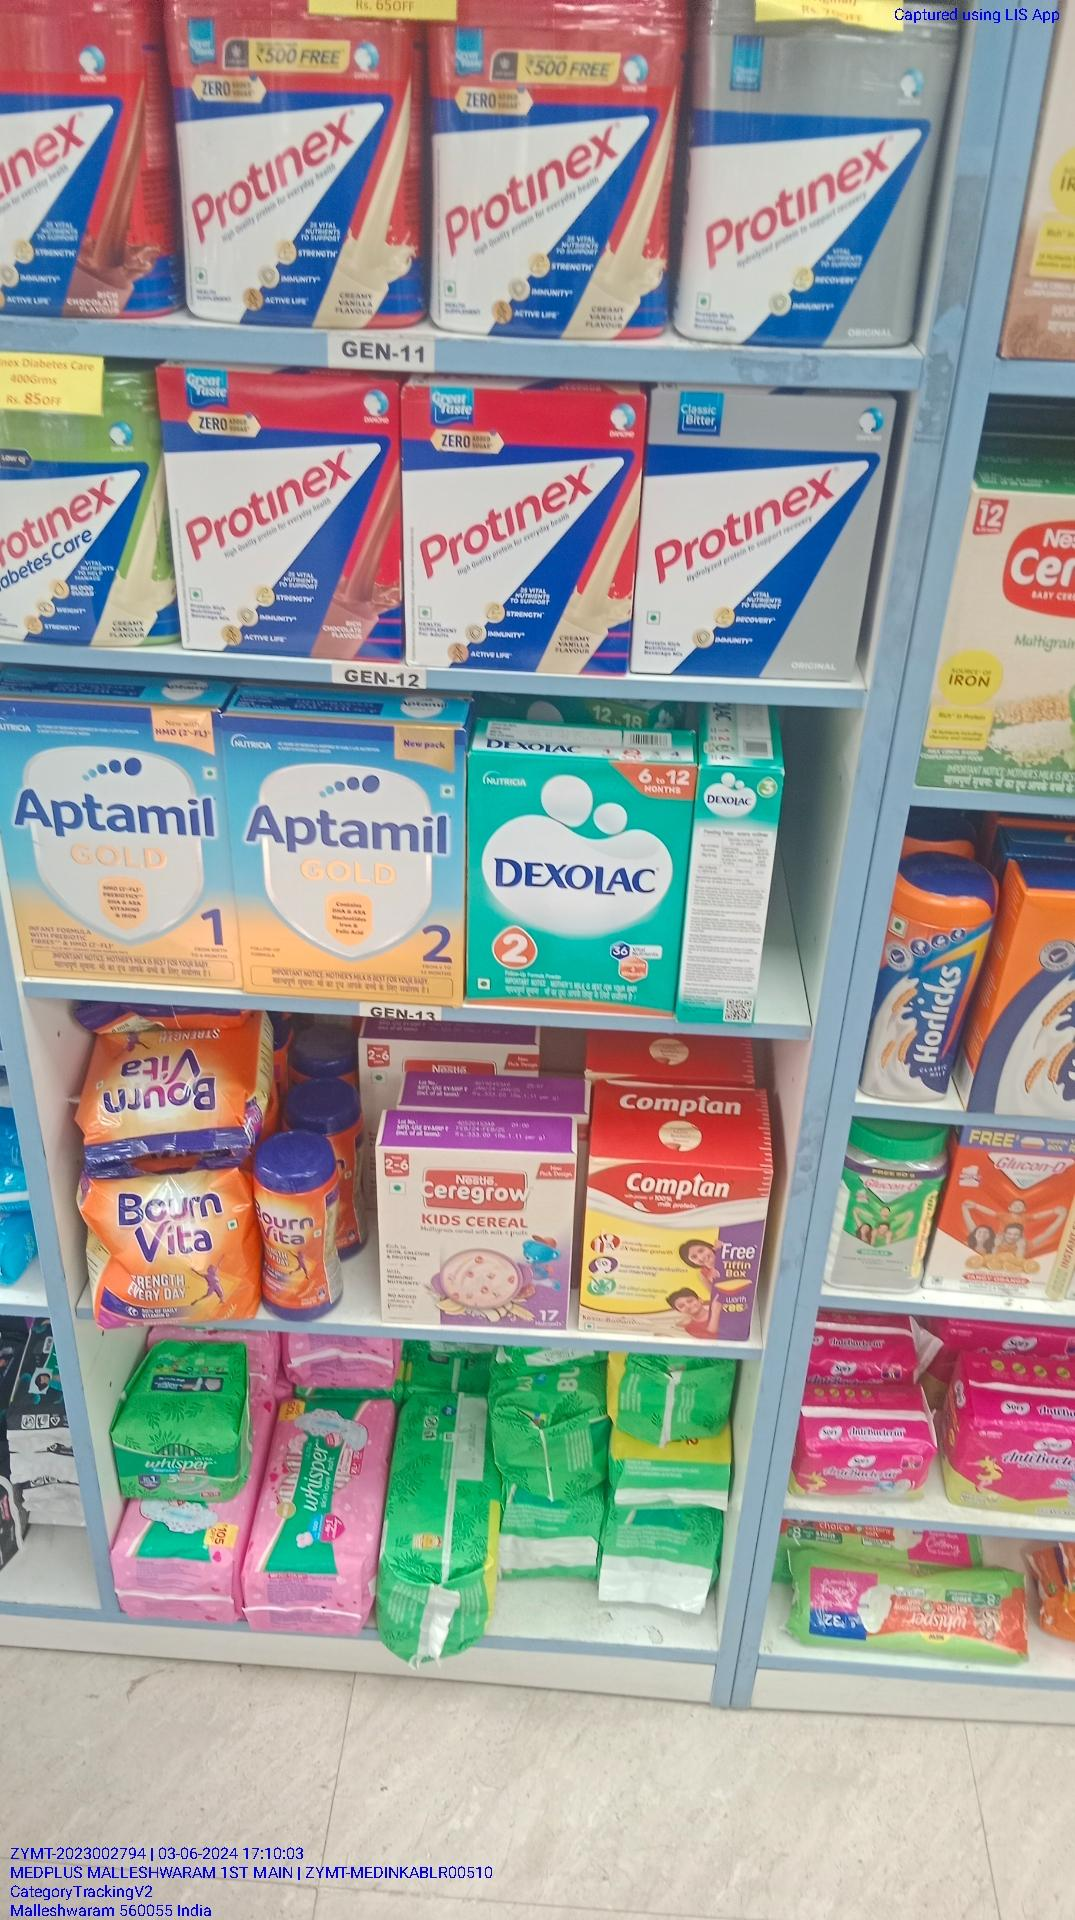BOURN_VITA_200_G_JAR: (261, 1163, 344, 1320)
BOURN_VITA_500_G_POUCH: (92, 1167, 259, 1328)
COMPLAN_KESAR_BADAM_200_GMS_PACK: (580, 1155, 757, 1340)
HORLICK_CLASSIC_MALT_500_G_JAR: (875, 869, 980, 1106)
PROTINEX_ORIGINAL_400_G_JAR: (690, 1, 929, 344)
PROTINEX_VANILLA_400_G_JAR: (426, 0, 671, 340), (171, 0, 419, 331)
